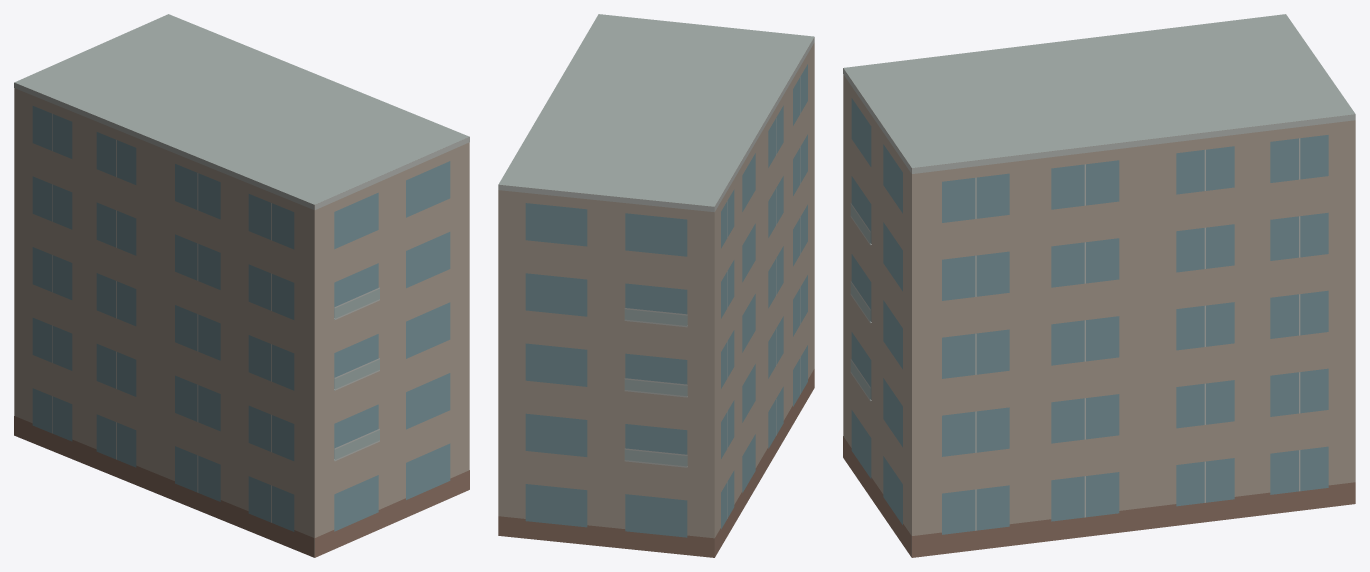
Rendered from survey-upis-32717602.glb.
3 views of the same model, side by side, from view 1: azimuth 30°, elevation 25°; view 2: azimuth 150°, elevation 25°; view 3: azimuth 270°, elevation 25° (orthographic). The views are drawn at different scales.
Parts seen in each view (by area): view 1: survey-upis-32717602.tmp; view 2: survey-upis-32717602.tmp; view 3: survey-upis-32717602.tmp.
Boxes of the visible parts, left/top/right/bottom form: survey-upis-32717602.tmp: left=14, top=14, right=469, bottom=557; survey-upis-32717602.tmp: left=498, top=14, right=814, bottom=557; survey-upis-32717602.tmp: left=843, top=14, right=1355, bottom=557.
Size of the model in its own units: 13.41 by 15.8 by 18.84.
